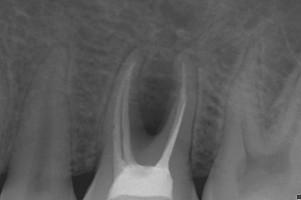Endo-Periodontal Lesion: (136, 72, 180, 137)
